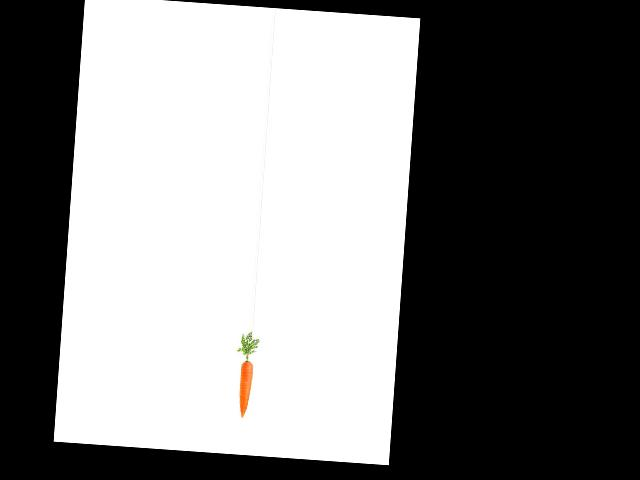carrot: (235, 358, 255, 420)
